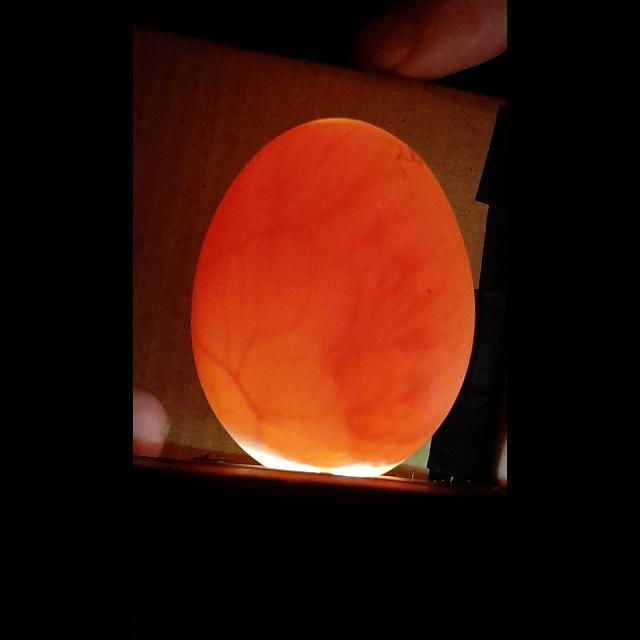Fertile: (184, 104, 483, 478)
